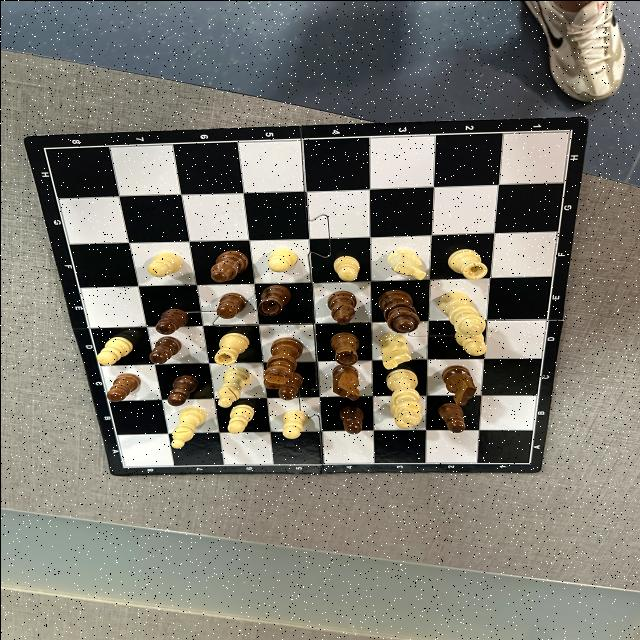Black-Bishop: (209, 248, 248, 282), (326, 290, 356, 323)
Black-King: (262, 337, 302, 389)
Black-Knight: (441, 364, 475, 404), (330, 365, 360, 399)
Black-Pawn: (166, 374, 198, 406), (106, 373, 140, 401), (149, 336, 181, 364), (156, 307, 186, 333), (438, 402, 463, 432), (217, 292, 245, 318), (338, 404, 362, 433), (277, 371, 301, 400)
Black-Queen: (376, 289, 418, 332)
Black-Rook: (330, 332, 360, 364), (258, 284, 290, 314)
White-Bishop: (170, 406, 206, 450), (216, 367, 250, 407)
White-King: (383, 368, 423, 428)
White-Knight: (386, 247, 425, 279), (378, 332, 411, 368)
White-Pawn: (96, 335, 132, 365), (453, 328, 486, 355), (146, 252, 182, 276), (280, 408, 306, 439), (226, 404, 253, 433), (332, 255, 360, 281), (266, 248, 296, 272)
White-Queen: (436, 290, 484, 336)
White-Rook: (214, 331, 249, 365), (446, 250, 486, 278)
